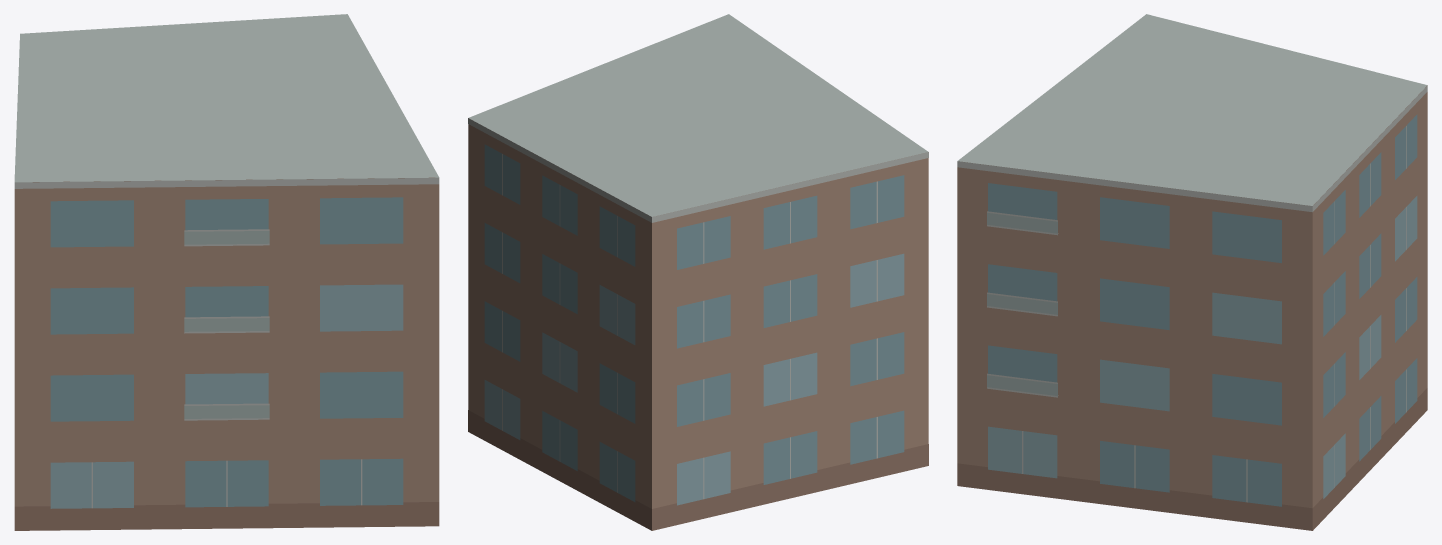
The model's file is survey-upis-32846346.glb.
3 renders of one model, left to right at view 1: azimuth 30°, elevation 25°; view 2: azimuth 150°, elevation 25°; view 3: azimuth 270°, elevation 25°, orthographic. The views are drawn at different scales.
Visible parts, largest first — view 1: survey-upis-32846346.tmp; view 2: survey-upis-32846346.tmp; view 3: survey-upis-32846346.tmp.
Part boxes in pixels (x1,y1,x2,y2): survey-upis-32846346.tmp: (14,14,439,530); survey-upis-32846346.tmp: (468,14,928,530); survey-upis-32846346.tmp: (957,14,1427,530).
Size of the model in its own units: 16.37 by 12.9 by 16.94.
